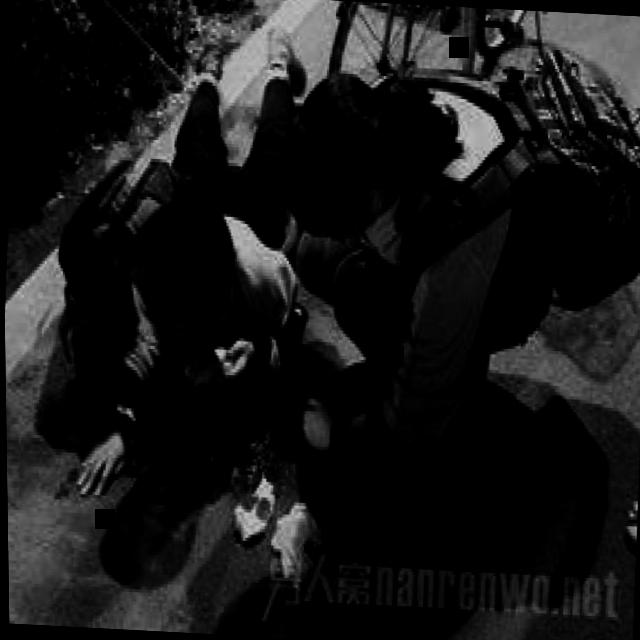Fall-Detected: (25, 14, 351, 526)
